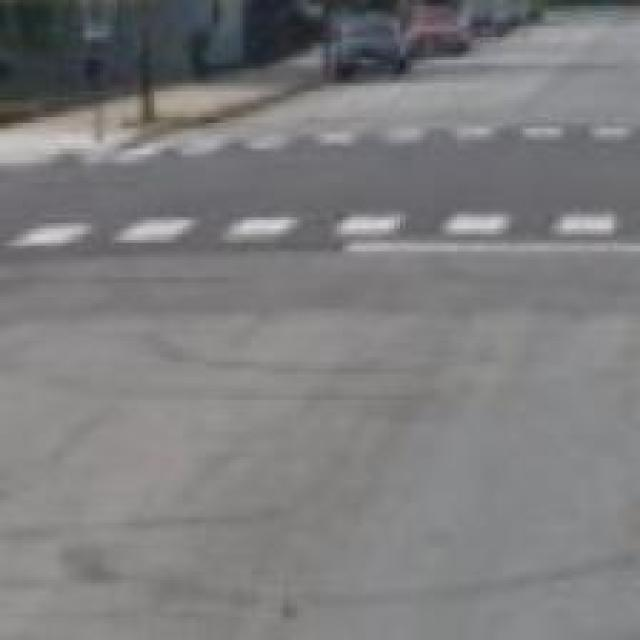walk-crossing: (0, 205, 633, 263), (115, 127, 634, 157)
